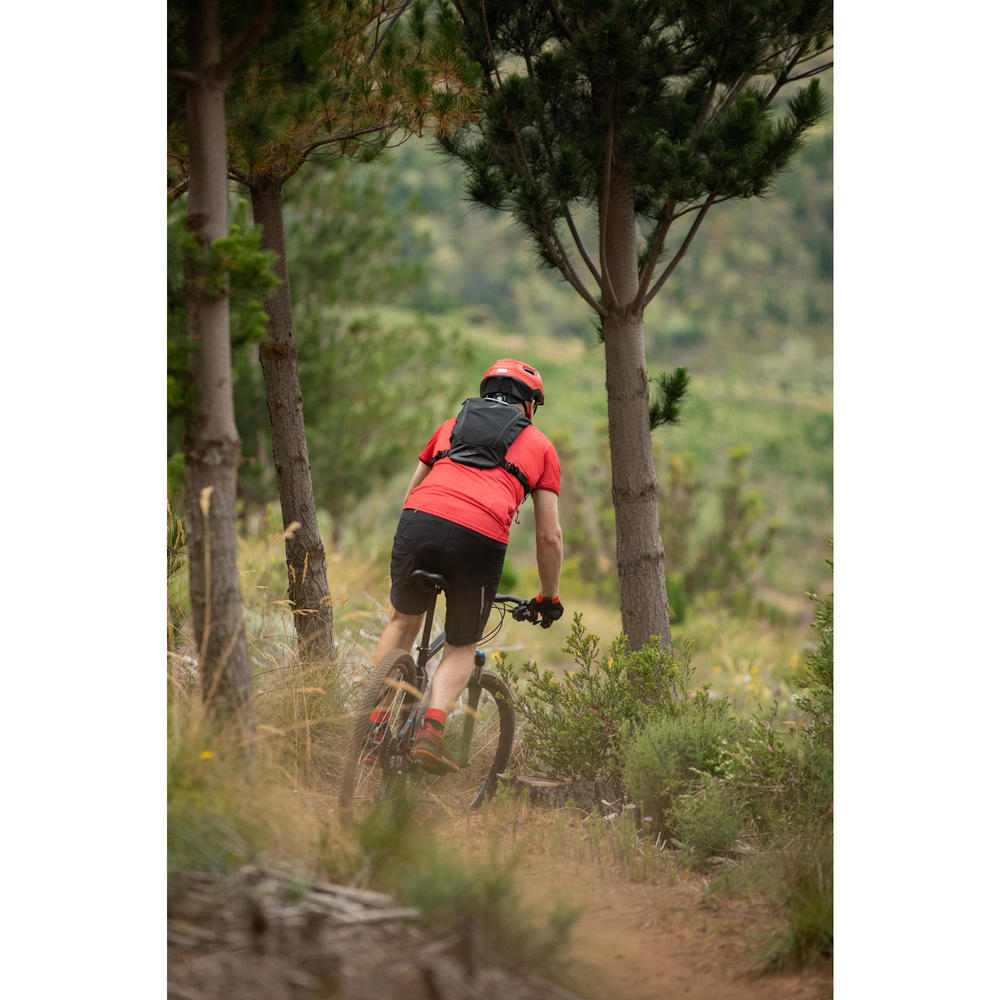MountainBike: (330, 562, 584, 851)
